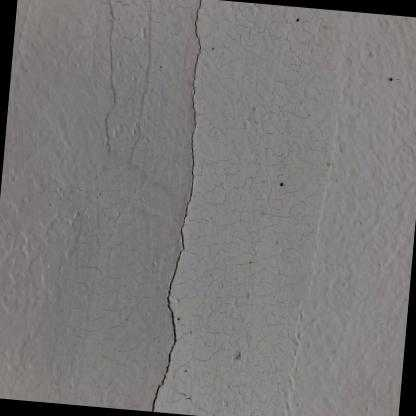crack: (151, 0, 205, 412)
